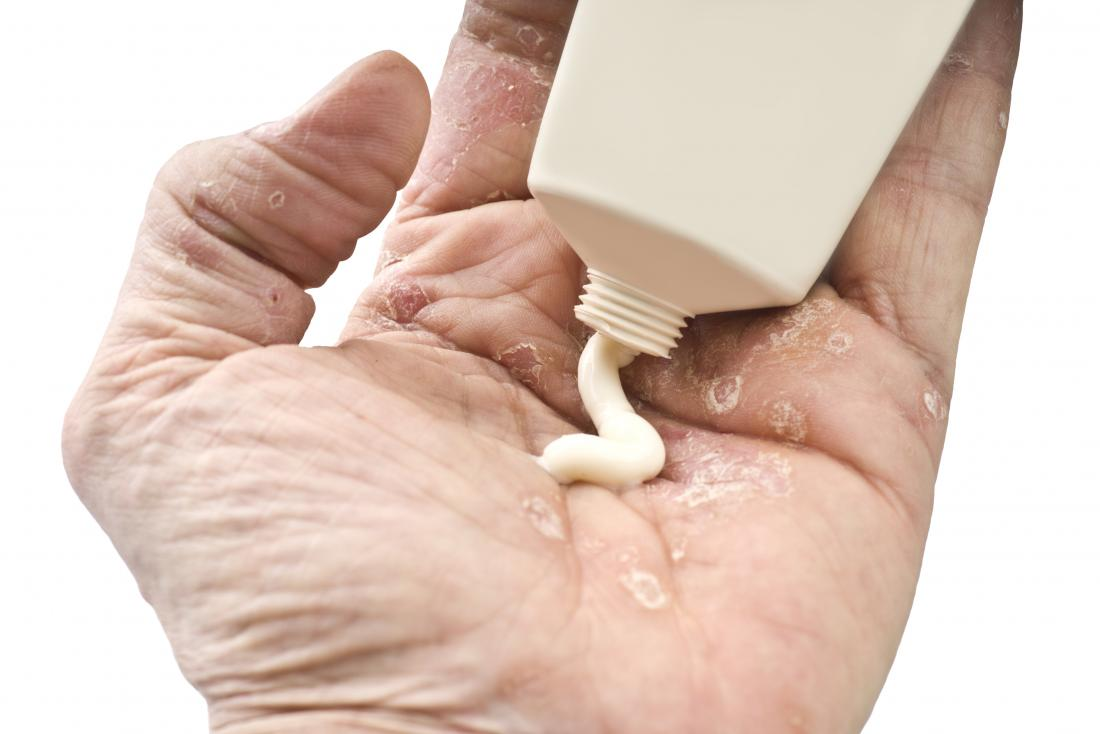Diseased: (228, 155, 843, 598)
